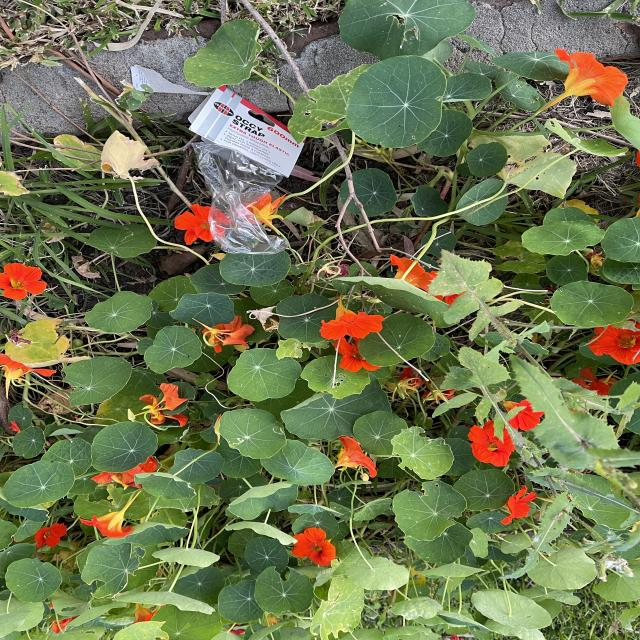bag: (178, 138, 310, 258)
cloth: (126, 54, 204, 98)
